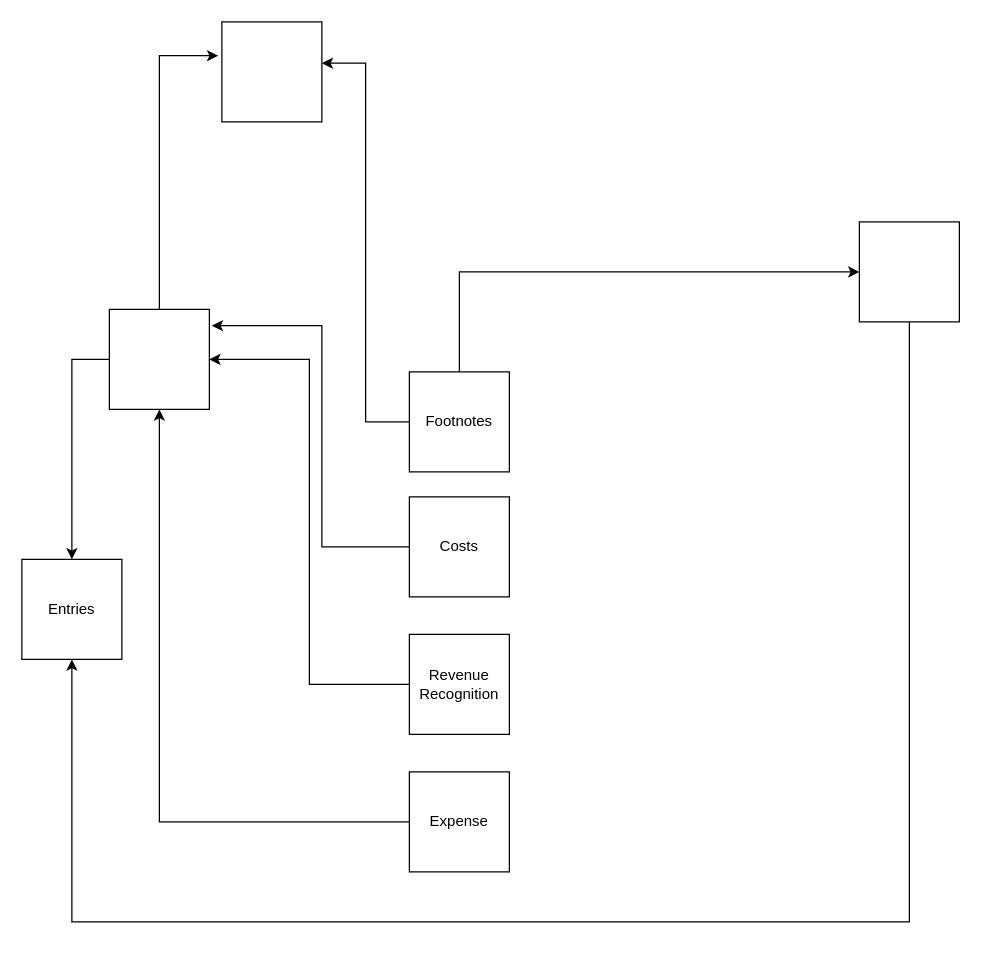
Some shapes in this 981 by 954 pixel diagram are drawn without their labels. Here are the shapes that lost their labels. From the top down, the centre of each, then its label:
At (271,71): "Accounts".
At (908,271): "Codelets".
At (158,358): "Transactions".
